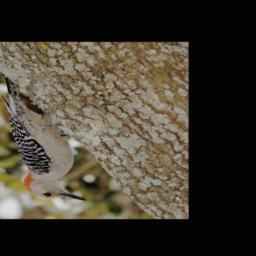Woodpecker: (0, 69, 89, 207)
